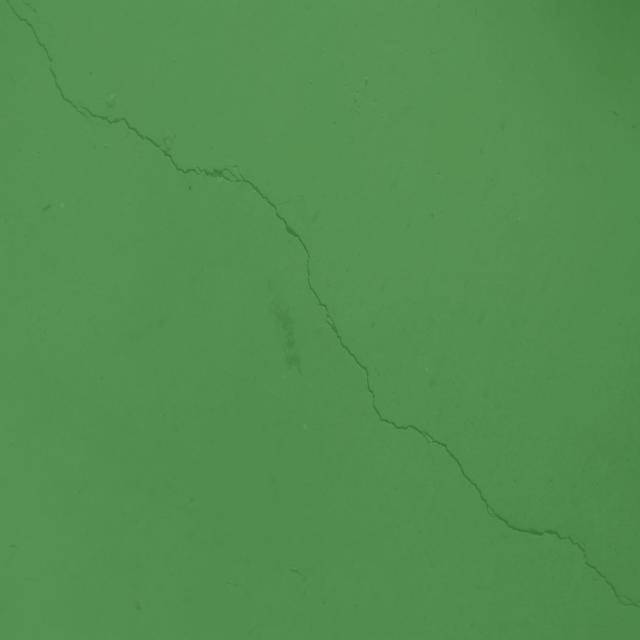crack: (5, 0, 640, 608), (22, 0, 49, 25)
